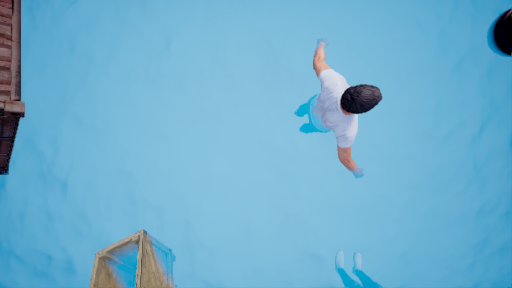person: (287, 42, 378, 178)
